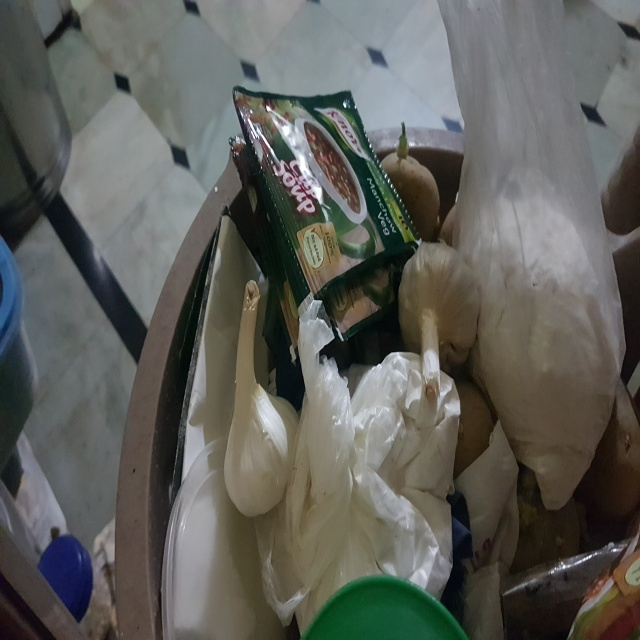garlic: (214, 281, 307, 530), (392, 246, 493, 428)
